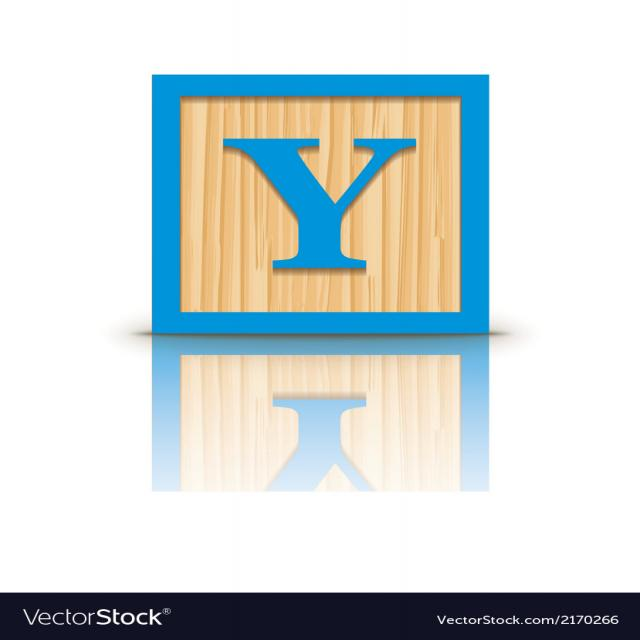Y: (212, 114, 422, 301)
